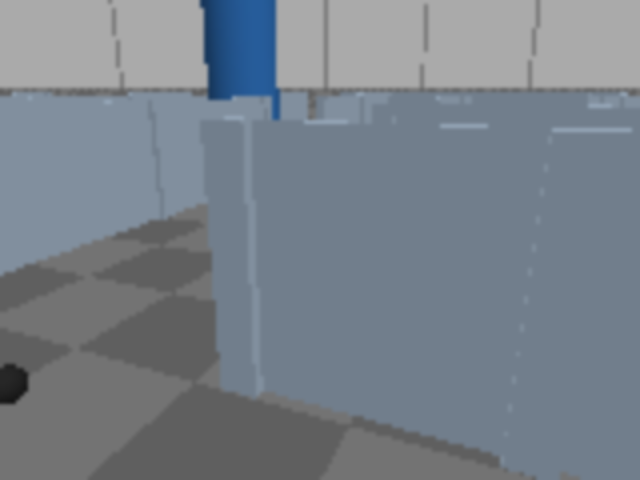puck: (0, 354, 34, 419)
